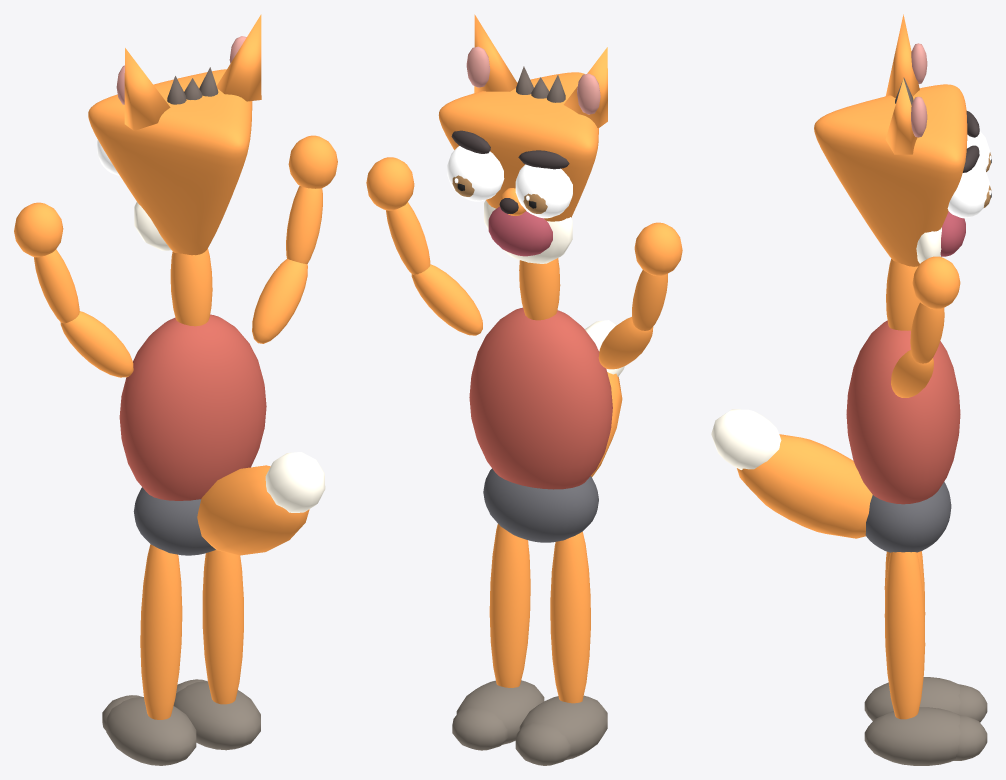
The model's file is Fox.glb.
3 views of the same model, side by side, from view 1: azimuth 30°, elevation 25°; view 2: azimuth 150°, elevation 25°; view 3: azimuth 270°, elevation 25° (orthographic). The views are drawn at different scales.
Parts seen in each view (by area): view 1: CH3_torso, CH3_head, CH3_tail, CH3_leg_L, CH3_leg_R, CH3_shoe_L, CH3_shoe_R, CH3_hips, CH3_armU_R, CH3_tailTip, CH3_neck, CH3_armU_L (+7 smaller); view 2: CH3_torso, CH3_head, CH3_leg_L, CH3_leg_R, CH3_hips, CH3_shoe_L, CH3_shoe_R, CH3_armU_R, CH3_eyeW_L, CH3_eyeW_R, CH3_mouth, CH3_neck (+14 smaller); view 3: CH3_head, CH3_torso, CH3_tail, CH3_leg_R, CH3_shoe_R, CH3_hips, CH3_tailTip, CH3_shoe_L, CH3_hand_R, CH3_neck, CH3_eyeW_R, CH3_armL_R (+8 smaller).
Part boxes in pixels (x1,y1,x2,y2): CH3_torso: (119,314,266,500); CH3_head: (88,69,252,255); CH3_tail: (197,465,309,555); CH3_leg_L: (140,544,182,719); CH3_leg_R: (202,550,243,704); CH3_shoe_L: (102,695,196,765); CH3_shoe_R: (173,679,260,750); CH3_hips: (133,487,215,555); CH3_armU_R: (252,259,307,343); CH3_tailTip: (265,452,325,512); CH3_neck: (170,248,212,326); CH3_armU_L: (60,311,133,377); CH3_torso: (469,307,612,489); CH3_head: (438,72,598,221); CH3_leg_L: (550,532,590,703); CH3_leg_R: (489,524,530,687); CH3_hips: (483,468,598,542); CH3_shoe_L: (515,695,607,765); CH3_shoe_R: (452,680,544,750); CH3_armU_R: (411,264,482,335); CH3_eyeW_L: (515,164,572,218); CH3_eyeW_R: (447,146,504,201); CH3_mouth: (488,206,552,256); CH3_neck: (519,258,560,320); CH3_head: (814,84,967,266); CH3_torso: (846,320,960,504); CH3_tail: (737,434,872,538); CH3_leg_R: (884,552,925,719); CH3_shoe_R: (864,707,987,765); CH3_hips: (865,482,951,552); CH3_tailTip: (711,409,781,469); CH3_shoe_L: (864,677,987,722); CH3_hand_R: (912,256,960,309); CH3_neck: (886,259,919,330); CH3_eyeW_R: (947,161,991,218); CH3_armL_R: (910,302,944,363).
Bounding box in the file's own units: 1.18 × 2.57 × 0.9352.
